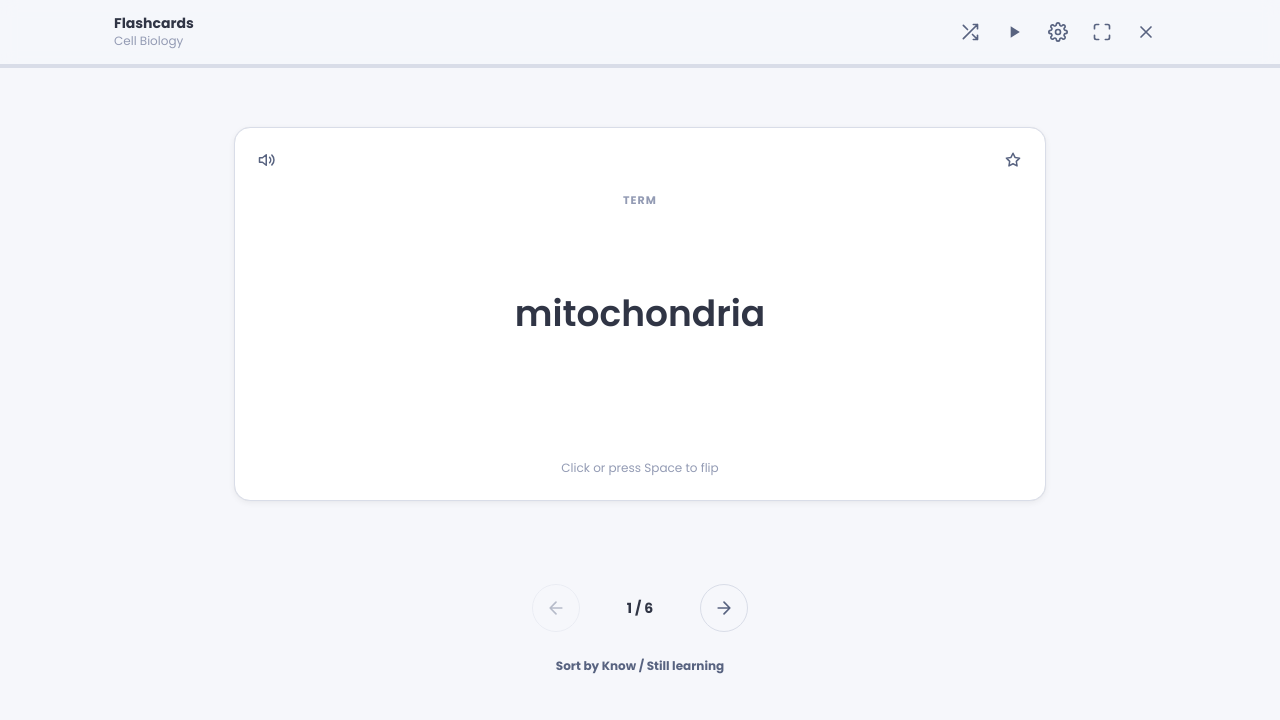
Flashcards › advances and goes back through the deck
Expected: the text "mitochondria" is shown, [515,289,765,339]
Click the button named "Next card" at x=724, y=608, box [700,584,748,632]
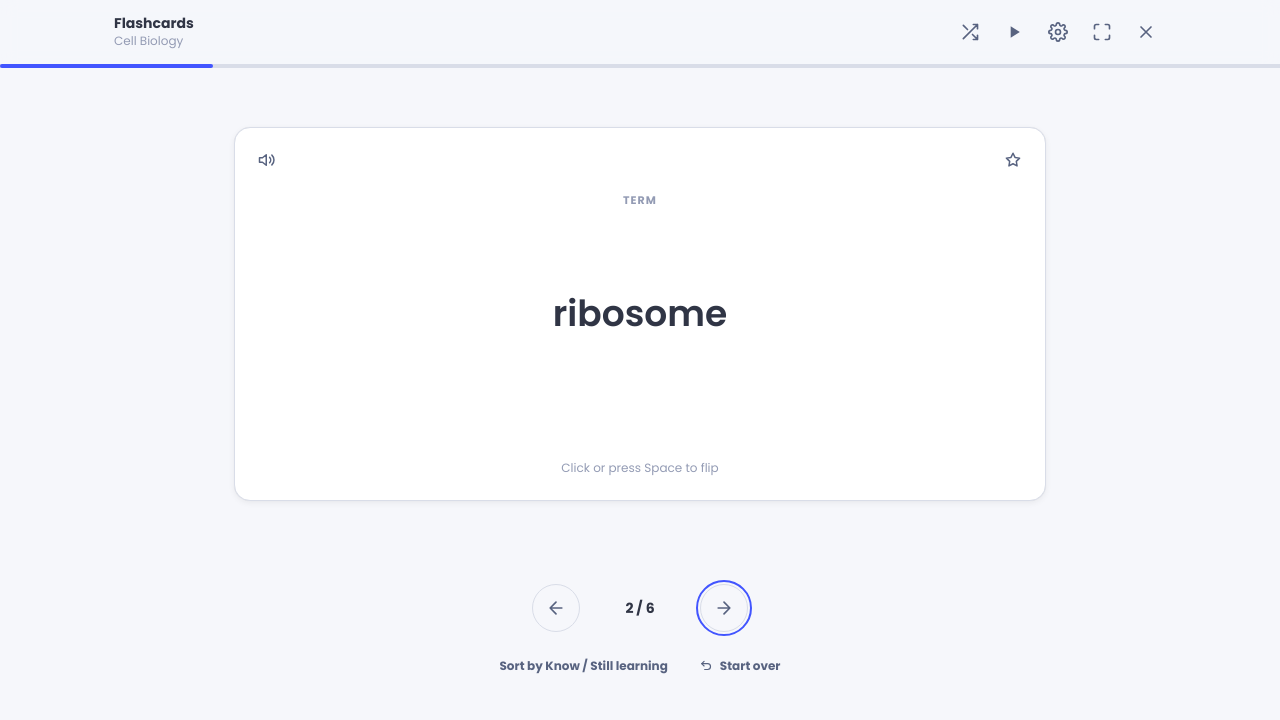
Expected: the text "ribosome" is shown, [553,289,727,339]
Expected: the text "2 / 6" is shown, [625,598,655,618]
Click the button named "previous card" at x=556, y=608, box [532,584,580,632]
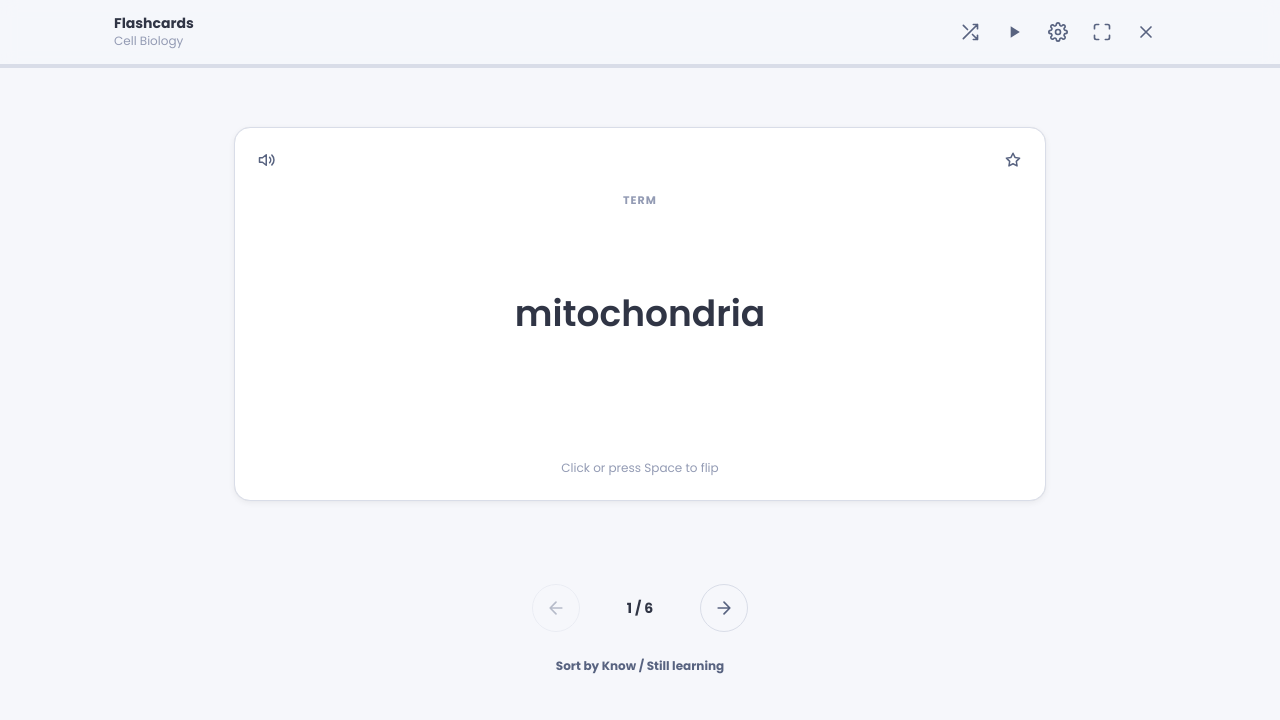
Expected: the text "mitochondria" is shown, [515,289,765,339]
